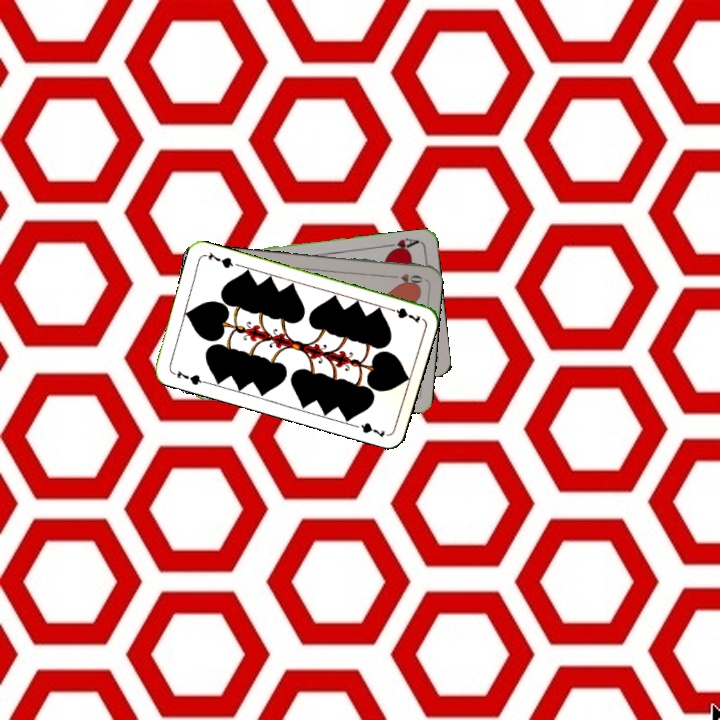G7: (383, 303, 423, 326), (168, 366, 208, 388)
HA: (381, 234, 421, 255)
HO: (386, 270, 426, 286)
